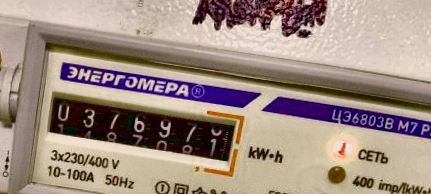0: (53, 99, 72, 122)
1: (205, 135, 219, 158)
3: (79, 105, 96, 129)
6: (131, 110, 147, 133)
7: (105, 105, 122, 131), (181, 119, 197, 143)
9: (156, 115, 172, 139)
screen: (36, 83, 247, 180)
